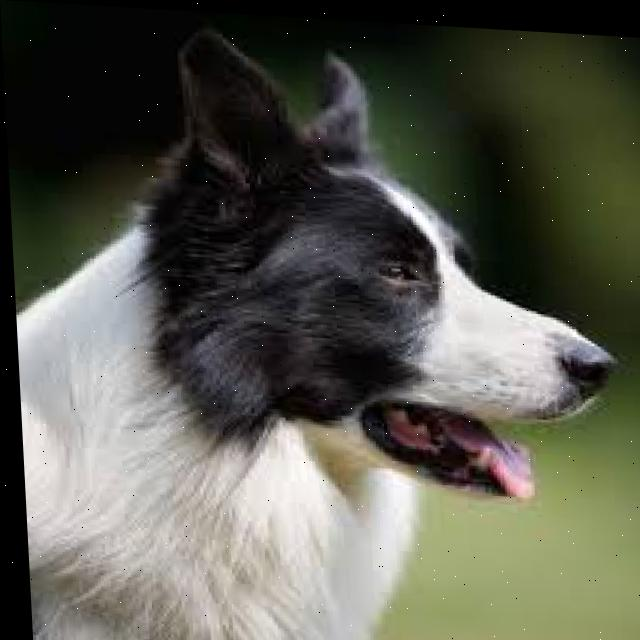BORDER_COLLIE: (1, 15, 625, 640)
